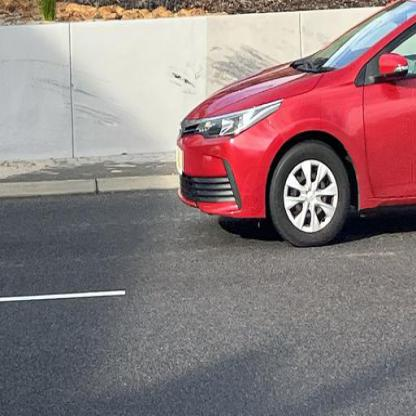Tire: (269, 140, 351, 246)
